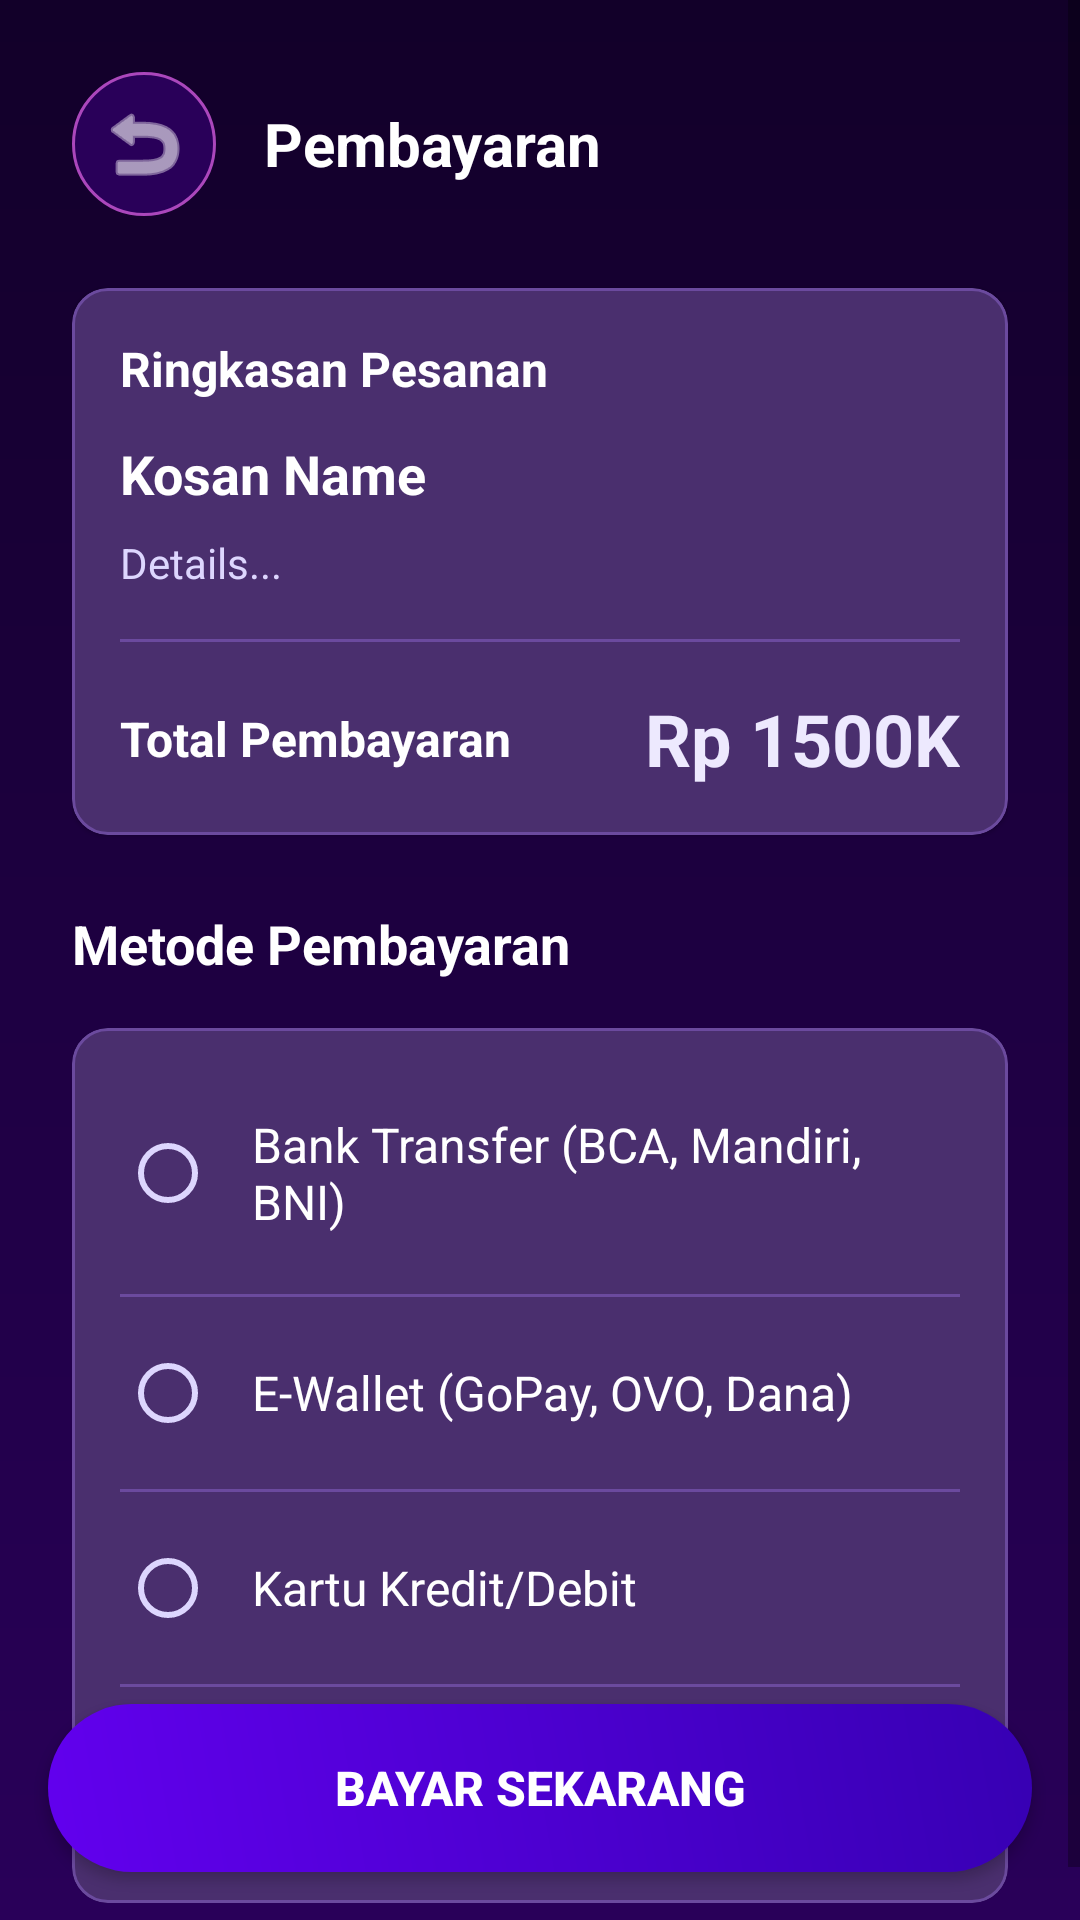

Where icons sit on this 1080 x 1920 app screen, as (x1, y1, x2, y2):
Kembali: (72, 72, 216, 216)
